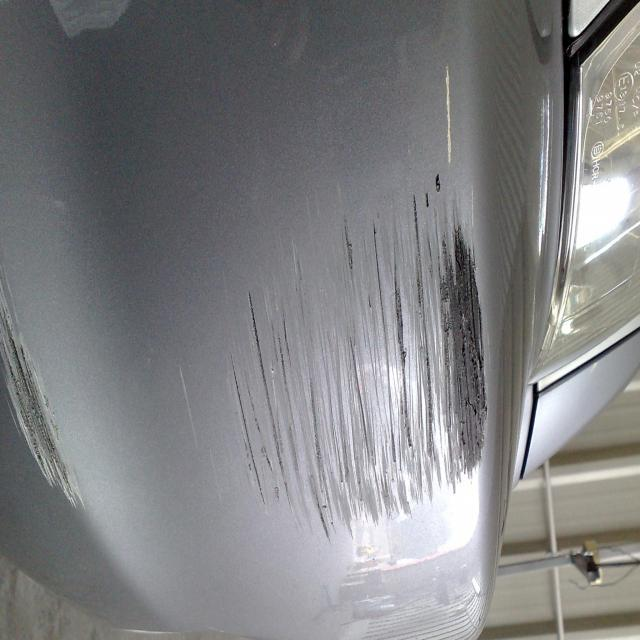scratch: (210, 178, 492, 544), (0, 242, 88, 519)
